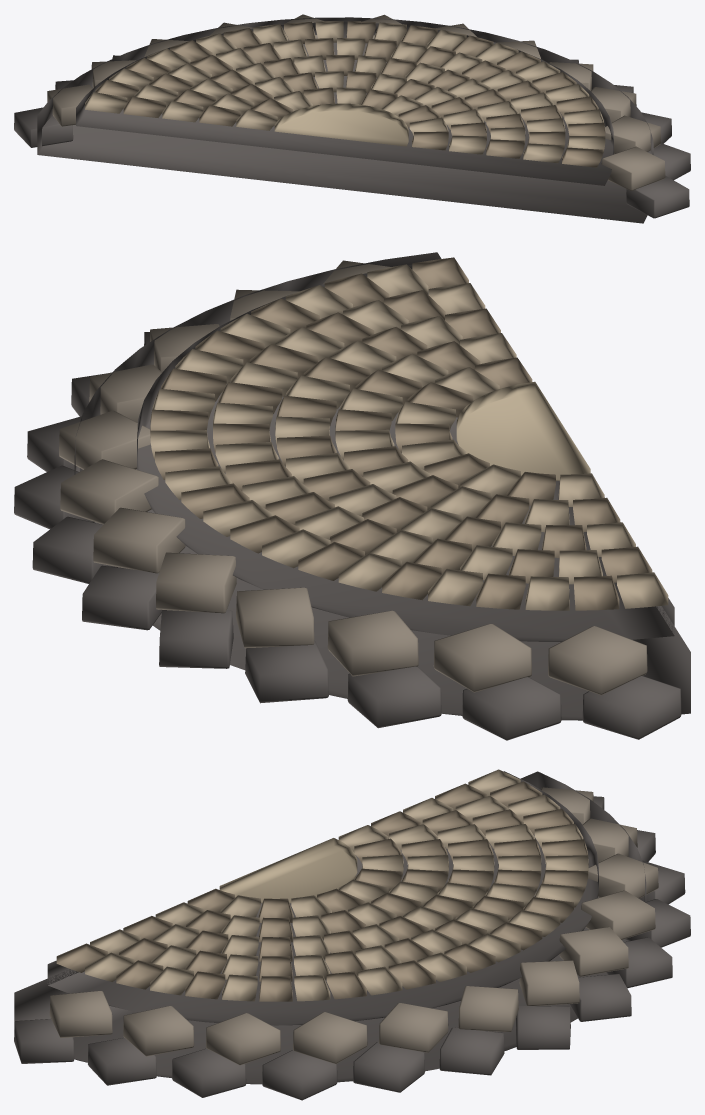
Rendered from 15_plaza_half.glb.
3 views of the same model, one above another, from view 1: azimuth 30°, elevation 25°; view 2: azimuth 150°, elevation 25°; view 3: azimuth 270°, elevation 25° (orthographic). The views are drawn at different scales.
Visible parts, largest first — view 1: CoreBase, UpperDeck, CenterMedallion, OuterToothMid_11, OuterToothLow_12, OuterToothMid_10, OuterToothLow_0, OuterToothMid_0, OuterToothMid_9, OuterToothLow_11, Cobble_4_0, Cobble_3_0 (+93 smaller); view 2: UpperDeck, CoreBase, CenterMedallion, OuterToothMid_0, OuterToothMid_1, OuterToothMid_2, OuterToothLow_1, OuterToothMid_5, OuterToothLow_2, OuterToothLow_0, OuterToothMid_4, OuterToothMid_3 (+101 smaller); view 3: UpperDeck, CoreBase, CenterMedallion, OuterToothMid_9, OuterToothMid_8, OuterToothMid_10, OuterToothLow_9, OuterToothLow_8, OuterToothMid_7, OuterToothLow_10, OuterToothMid_4, OuterToothLow_7 (+105 smaller).
Part boxes in pixels (box(x1,y1,x2,y2)): CoreBase: box(37, 17, 653, 223); UpperDeck: box(76, 22, 613, 185); CenterMedallion: box(274, 103, 408, 146); OuterToothMid_11: box(601, 146, 665, 190); OuterToothLow_12: box(626, 175, 689, 218); OuterToothMid_10: box(605, 115, 660, 153); OuterToothLow_0: box(14, 107, 73, 147); OuterToothMid_0: box(47, 84, 92, 126); OuterToothMid_9: box(591, 87, 636, 122); OuterToothLow_11: box(648, 143, 690, 180); Cobble_4_0: box(85, 92, 127, 113); Cobble_3_0: box(123, 96, 165, 117); UpperDeck: box(137, 264, 674, 641); CoreBase: box(74, 252, 690, 720); CenterMedallion: box(456, 381, 590, 480); OuterToothMid_0: box(548, 626, 647, 695); OuterToothMid_1: box(433, 624, 531, 692); OuterToothMid_2: box(327, 610, 418, 676); OuterToothLow_1: box(462, 677, 561, 740); OuterToothMid_5: box(93, 507, 185, 573); OuterToothLow_2: box(347, 666, 441, 728); OuterToothLow_0: box(582, 676, 681, 739); OuterToothMid_4: box(156, 552, 236, 613); OuterToothMid_3: box(236, 587, 314, 648); UpperDeck: box(47, 771, 598, 1025); CoreBase: box(14, 771, 646, 1084); CenterMedallion: box(219, 838, 357, 903); OuterToothMid_9: box(206, 1013, 280, 1065); OuterToothMid_8: box(293, 1012, 367, 1063); OuterToothMid_10: box(123, 1006, 194, 1056); OuterToothLow_9: box(262, 1050, 337, 1100); OuterToothLow_8: box(353, 1041, 424, 1092); OuterToothMid_7: box(379, 1003, 448, 1052); OuterToothLow_10: box(172, 1048, 246, 1097); OuterToothMid_4: box(559, 927, 628, 976); OuterToothLow_7: box(439, 1027, 504, 1075).
Bounding box in the file's own units: 3.44 × 0.3745 × 3.44.
